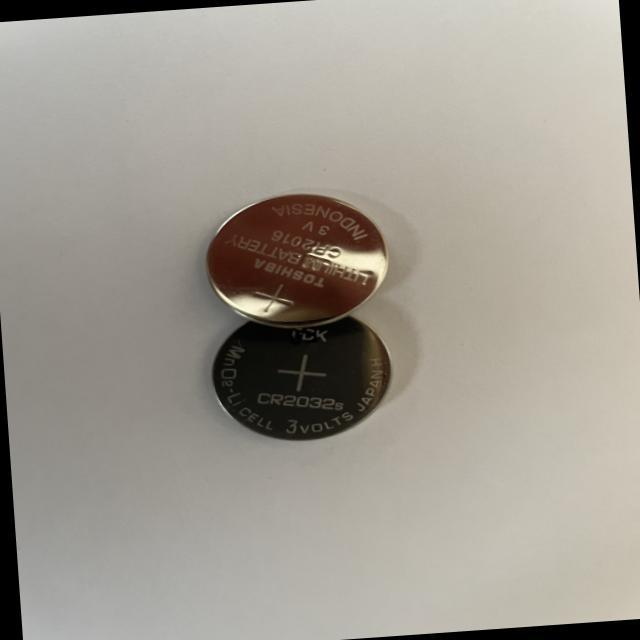COIN: (201, 188, 390, 332), (205, 308, 396, 447)
